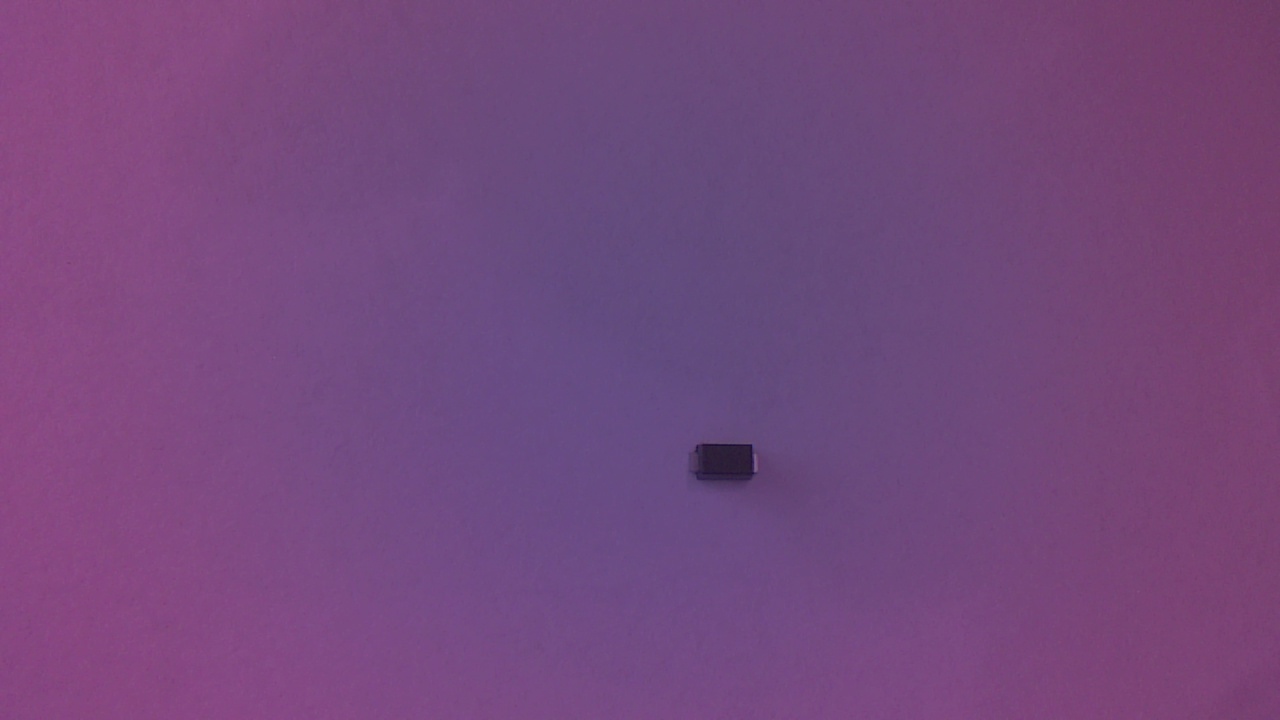Diode: (683, 440, 772, 493)
